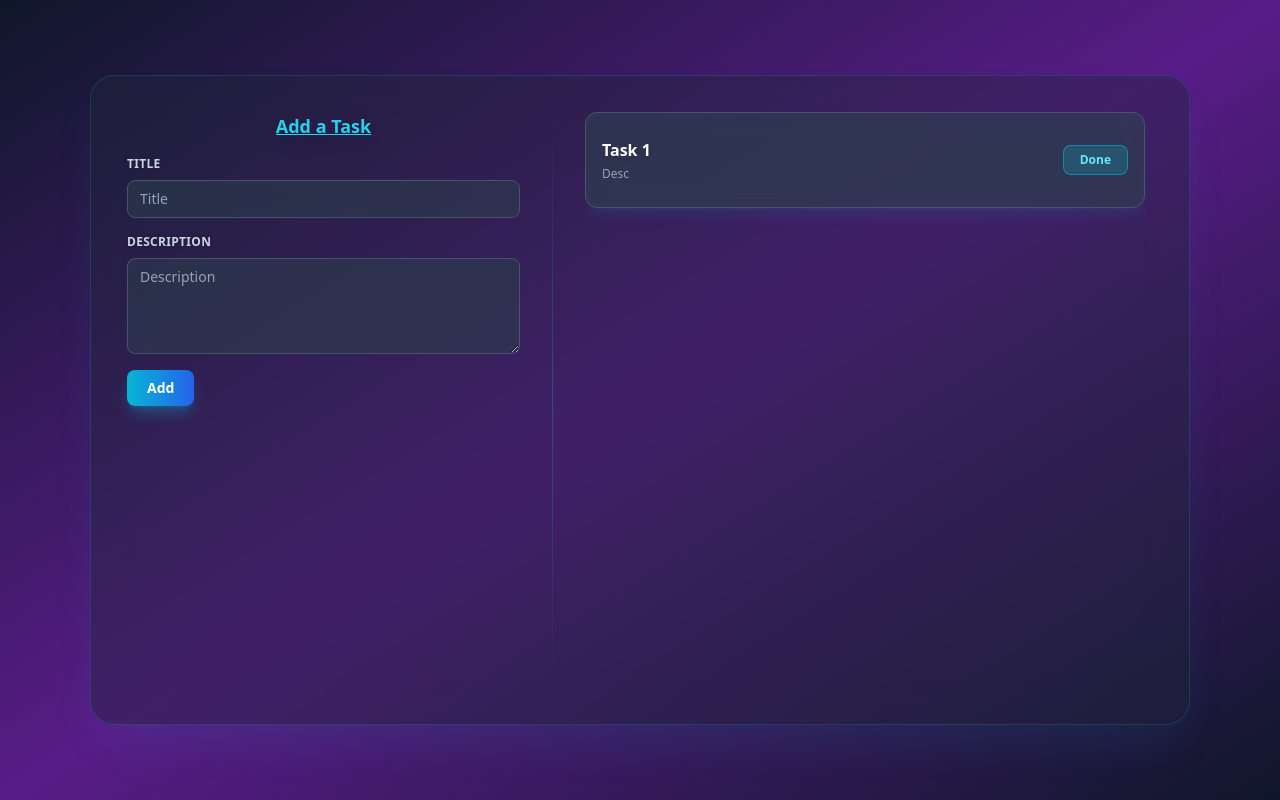
Test: marks task completed and removes from list
Expected: the text "Task 1" is shown, [602, 139, 651, 161]
Click the button "Done": coordinates (1095, 160) [1063, 145, 1128, 175]
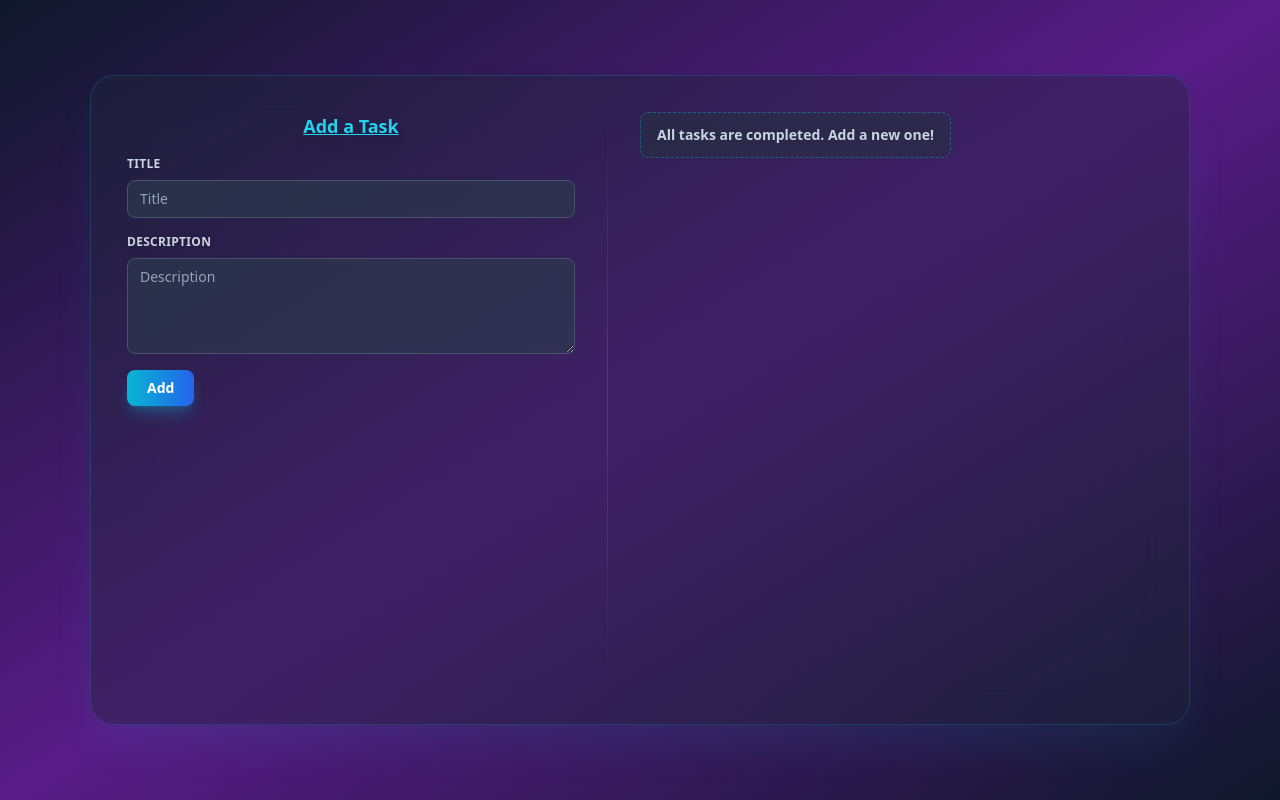
Expected: the text "Task 1" is gone
